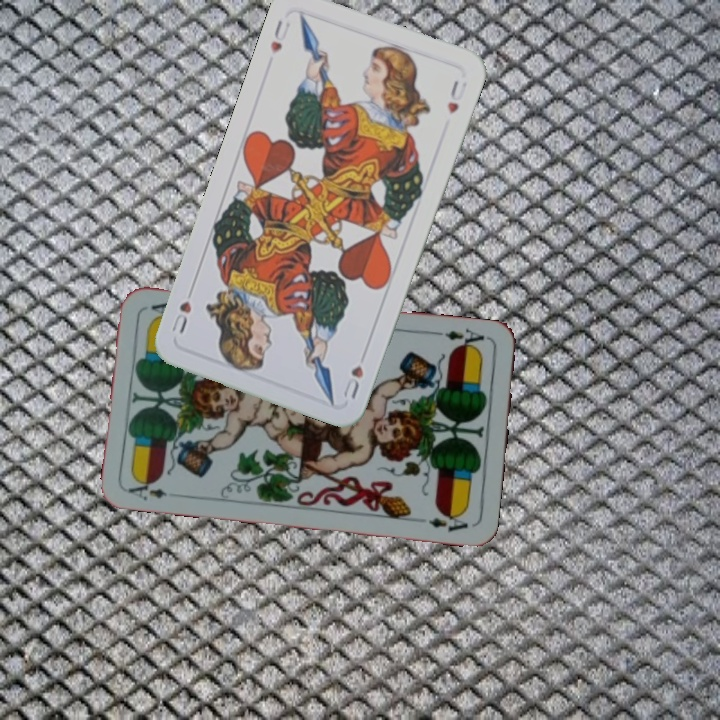EA: (441, 324, 492, 353), (124, 475, 169, 503)
HU: (339, 361, 366, 402), (266, 16, 293, 56)
